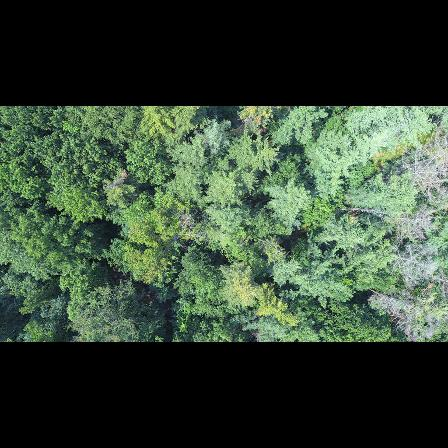Dead: (361, 284, 425, 336), (382, 240, 443, 278), (394, 136, 448, 173), (403, 171, 448, 192)
